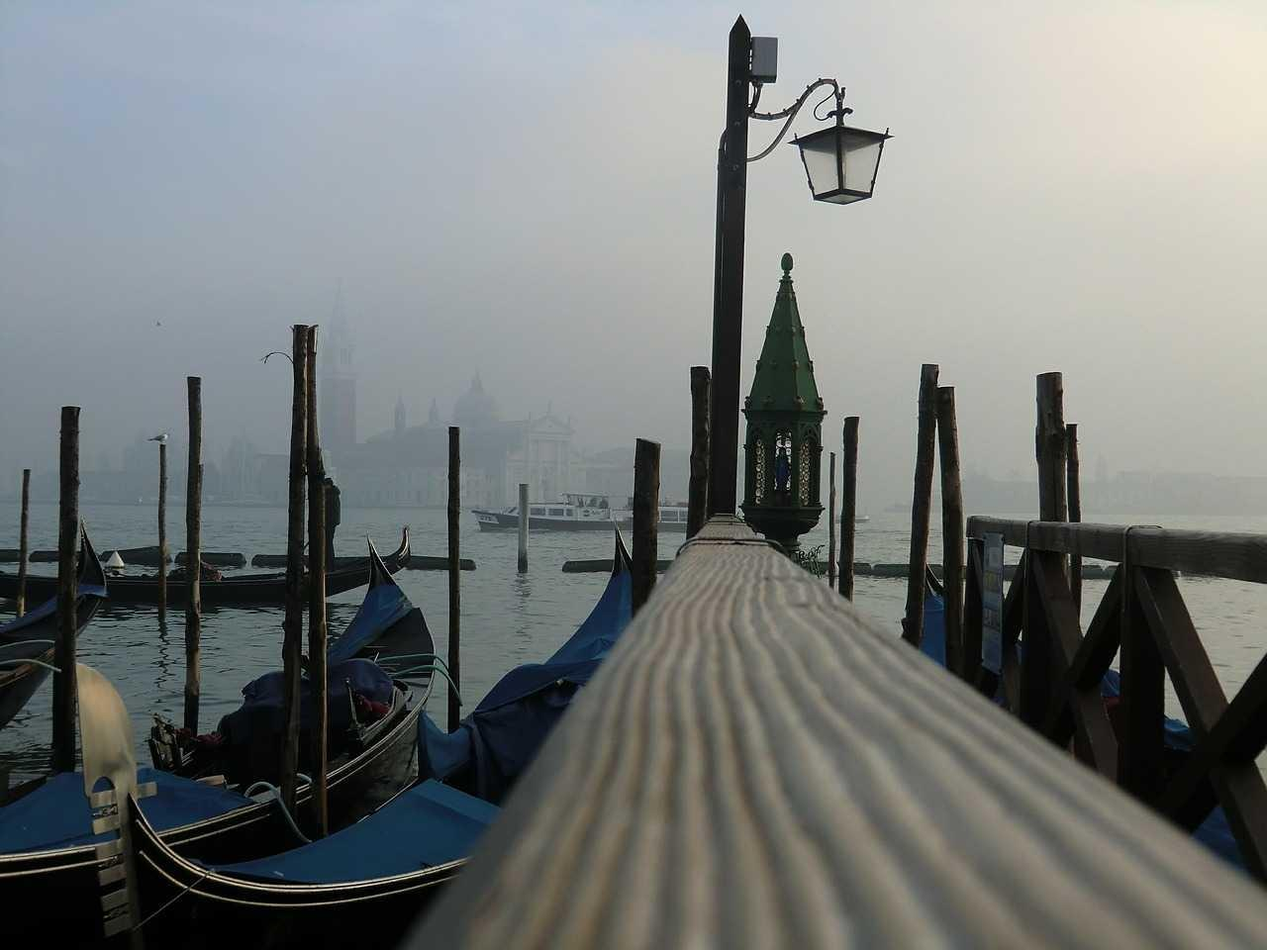kayak: (133, 536, 444, 878), (127, 770, 500, 928), (1, 645, 144, 944), (102, 531, 412, 603), (0, 527, 108, 640), (111, 550, 298, 603), (2, 589, 106, 649), (471, 495, 627, 531), (0, 638, 57, 730)
